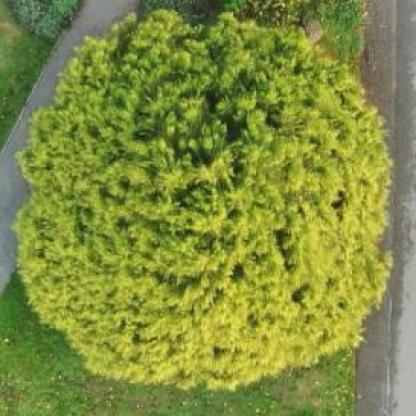Coniferous Tree: (13, 12, 388, 377)
